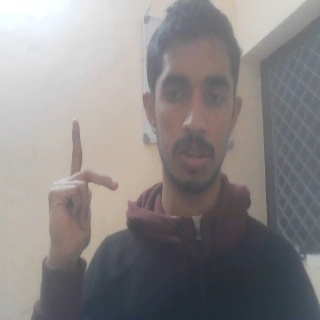Face: (142, 1, 244, 194)
Okay: (42, 115, 121, 259)
